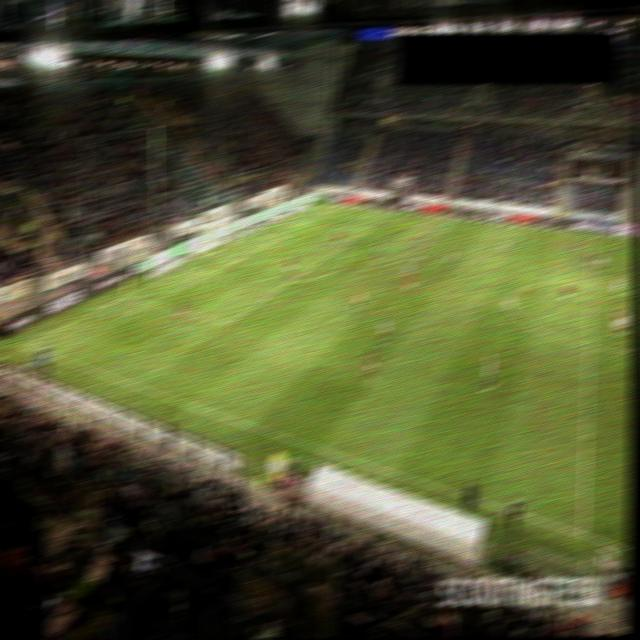bigarea_bottom_inner: (221, 316, 237, 327)
bigarea_bottom_outter: (116, 290, 132, 301)
bigarea_top_inner: (360, 224, 375, 234)
bigarea_top_outter: (278, 213, 294, 223)
bottom_arc_area_intersection: (282, 275, 297, 285)
corner: (313, 198, 330, 208)
halfcircle_bottom: (582, 340, 597, 351)
halfcircle_top: (584, 277, 600, 287)
midline_bottom_intersection: (575, 527, 591, 538)
midline_top_intersection: (586, 228, 601, 239)
smallarea_bottom_inner: (204, 267, 219, 278)
smallarea_bottom_outter: (174, 261, 190, 272)
smallarea_top_inner: (272, 232, 288, 242)
smallarea_top_outter: (246, 227, 262, 238)
top_arc_area_intersection: (329, 243, 345, 253)
